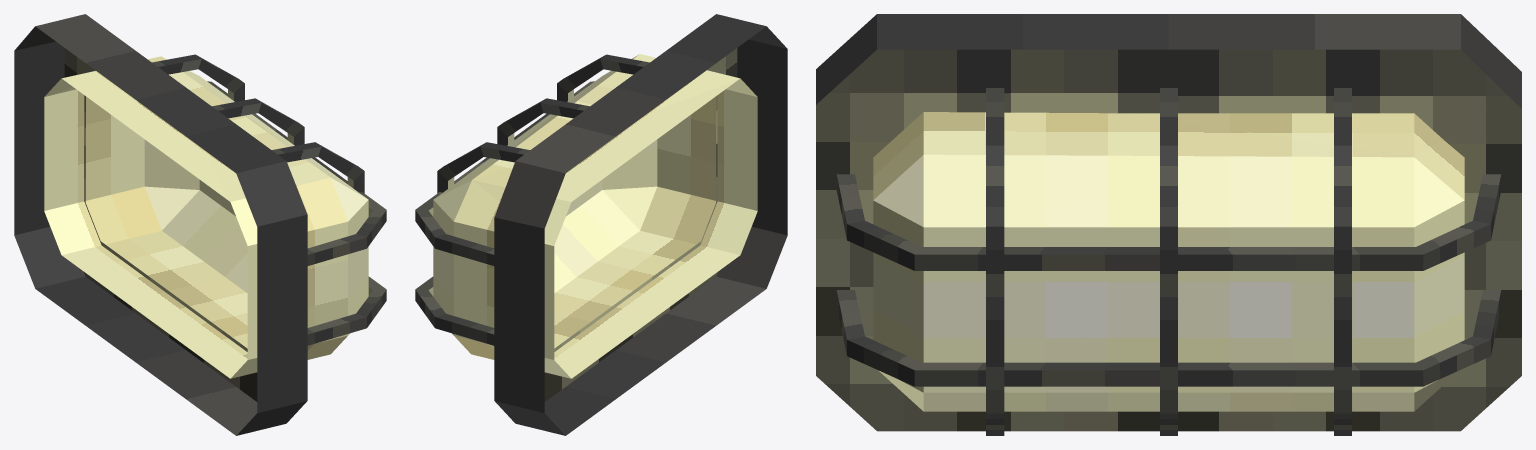
The model's file is cage_lamp_top.obj.
3 views of the same model, side by side, from view 1: azimuth 30°, elevation 25°; view 2: azimuth 150°, elevation 25°; view 3: azimuth 270°, elevation 25° (orthographic). The views are drawn at different scales.
Parts seen in each view (by area): view 1: CageLamp; view 2: CageLamp; view 3: CageLamp.
Boxes of the visible parts, x1,y1,x2,y2 form: CageLamp: (14, 14, 386, 435); CageLamp: (415, 14, 787, 435); CageLamp: (816, 14, 1521, 435).
Bounding box in the file's own units: 0.1921 × 0.2905 × 0.4872.
